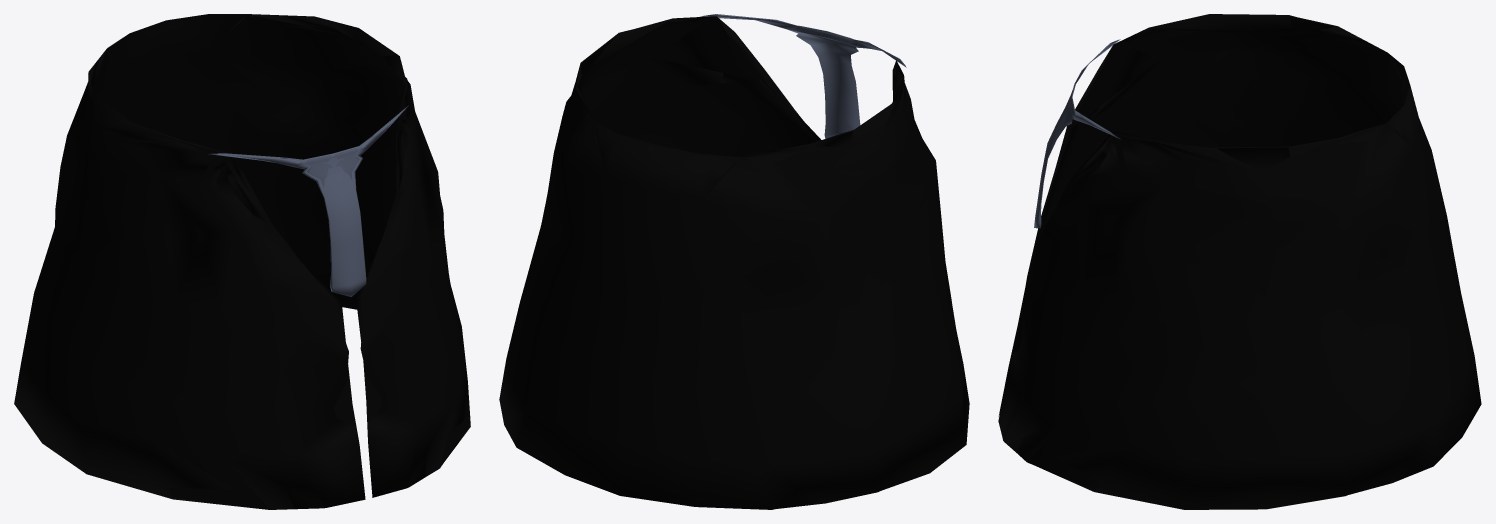
Rendered from ropa_traje.glb.
3 views of the same model, side by side, from view 1: azimuth 30°, elevation 25°; view 2: azimuth 150°, elevation 25°; view 3: azimuth 270°, elevation 25° (orthographic). The views are drawn at different scales.
Visible parts, largest first — view 1: pieza; view 2: pieza; view 3: pieza.
Boxes of the visible parts, <box> form: pieza: <box>14,14,470,509</box>; pieza: <box>499,14,969,509</box>; pieza: <box>998,14,1481,509</box>.
Size of the model in its own units: 0.8991 by 0.7371 by 0.9498.
